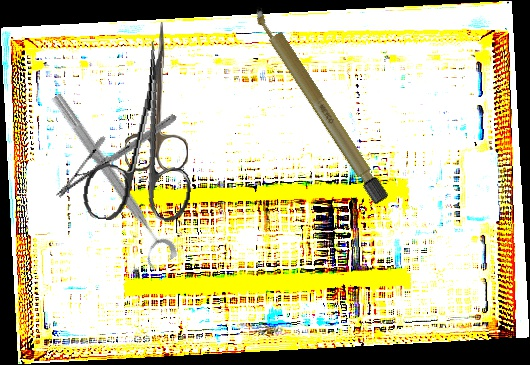Fixation Ring: (37, 89, 181, 273)
Iris Scissors: (80, 34, 209, 230), (124, 21, 191, 172)
Needle Holder: (56, 83, 177, 229)
Scalpel Handle: (249, 1, 391, 207)
